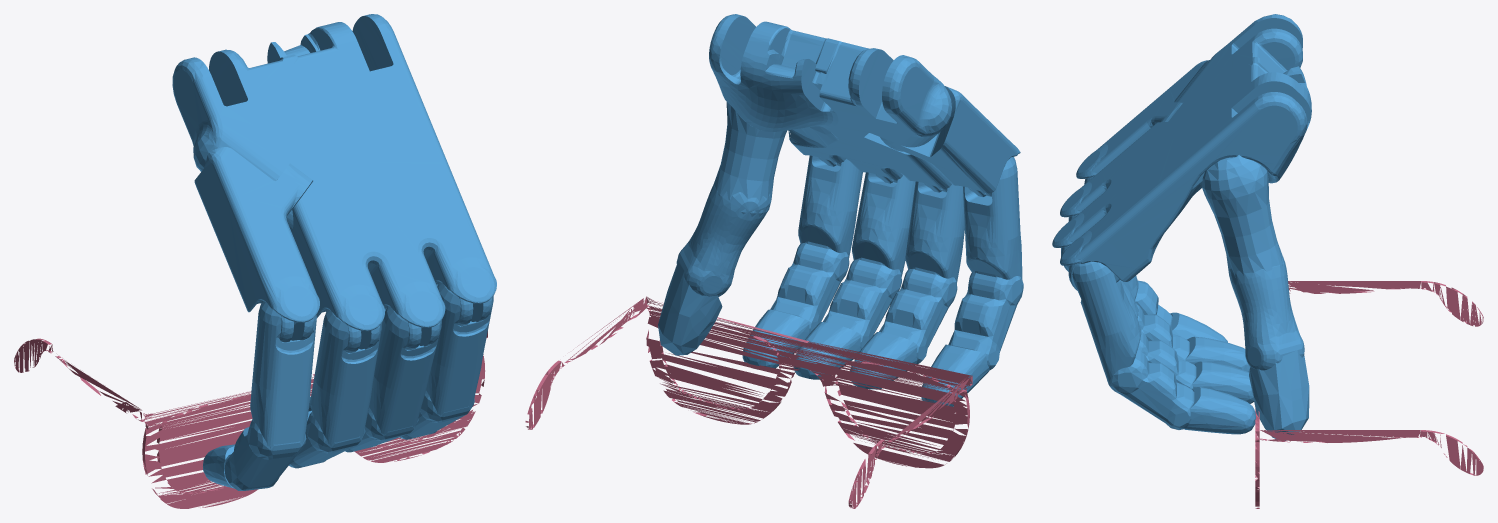
3 renders of one model, left to right at view 1: azimuth 30°, elevation 25°; view 2: azimuth 150°, elevation 25°; view 3: azimuth 270°, elevation 25°, orthographic. The views are drawn at different scales.
Visible parts, largest first — view 1: 0; view 2: 0; view 3: 0.
Boxes of the visible parts, x1=… form: 0: x1=14, y1=14, x2=496, y2=508; 0: x1=525, y1=14, x2=1023, y2=508; 0: x1=1052, y1=14, x2=1483, y2=508.
Bounding box in the file's own units: 0.136 × 0.1652 × 0.1647.
